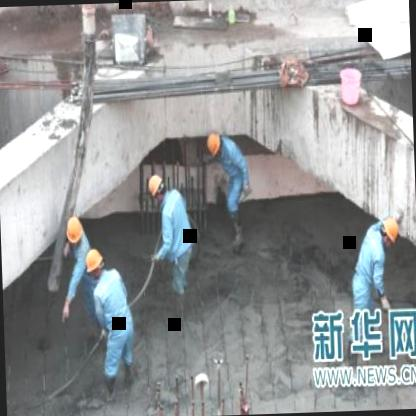helmet: (84, 244, 110, 283), (204, 129, 230, 162), (146, 172, 170, 206), (378, 214, 400, 249), (65, 215, 84, 251)
